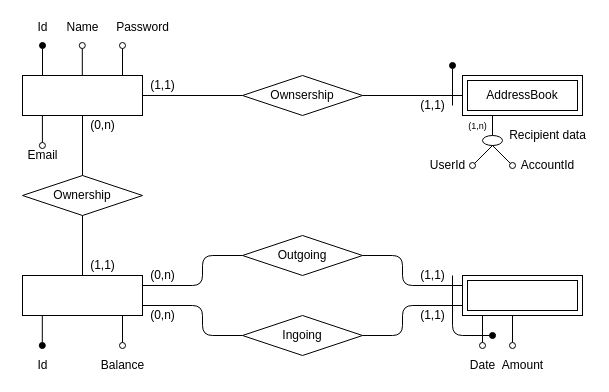
This 609x392 diagram has some shape labels left out. Here are the shapes that lost their labels. From the top down, the centre of each, then its label:
pixel 82 95: User
pixel 82 295: Account
pixel 522 295: Transfer
